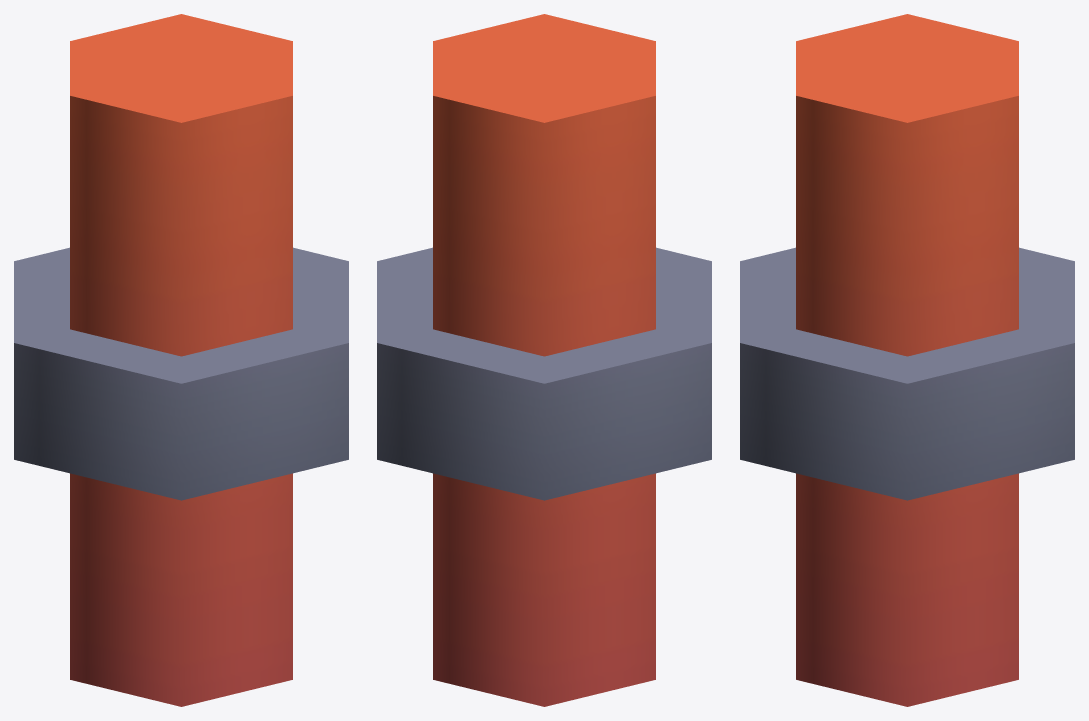
The model's file is kenney-prototype-pipe-half-section.glb.
The picture shows the model from 3 angles, left to right: view 1: azimuth 30°, elevation 25°; view 2: azimuth 150°, elevation 25°; view 3: azimuth 270°, elevation 25°; orthographic projection.
Visible parts, largest first — view 1: pipe-half-section; view 2: pipe-half-section; view 3: pipe-half-section.
Boxes of the visible parts, left/top/right/bottom form: pipe-half-section: left=14, top=14, right=348, bottom=706; pipe-half-section: left=377, top=14, right=711, bottom=706; pipe-half-section: left=740, top=14, right=1074, bottom=706.
Size of the model in its own units: 0.3 by 0.5 by 0.2598.
1 material, 1 textured.
